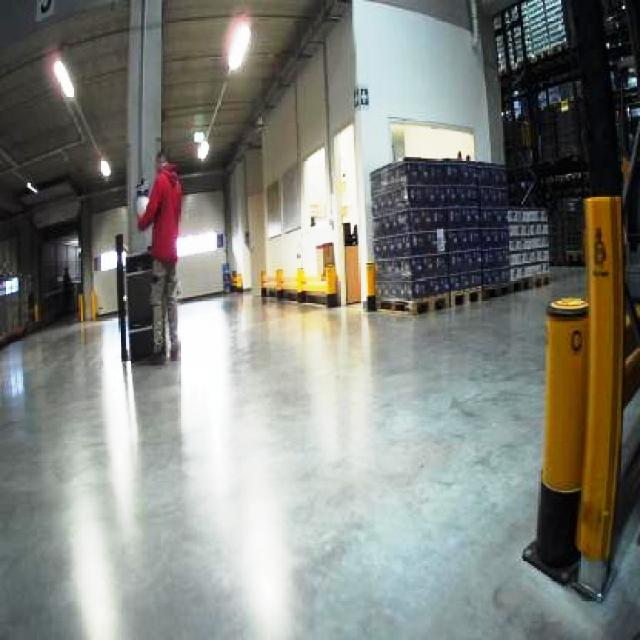ground: (0, 263, 638, 638)
pallet: (368, 154, 551, 314), (118, 246, 157, 360), (506, 205, 551, 289), (258, 263, 338, 306), (0, 269, 29, 358)
